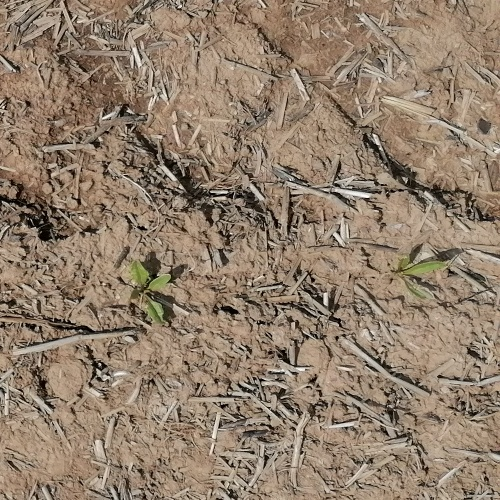beet: (130, 260, 171, 330), (396, 253, 450, 301)
